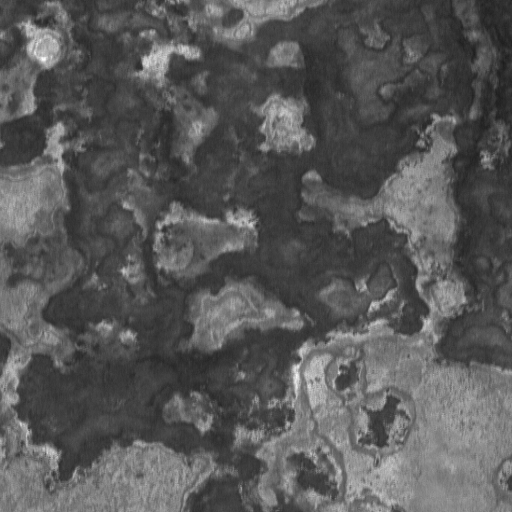aokeng: (9, 346, 289, 492), (331, 11, 432, 132)
